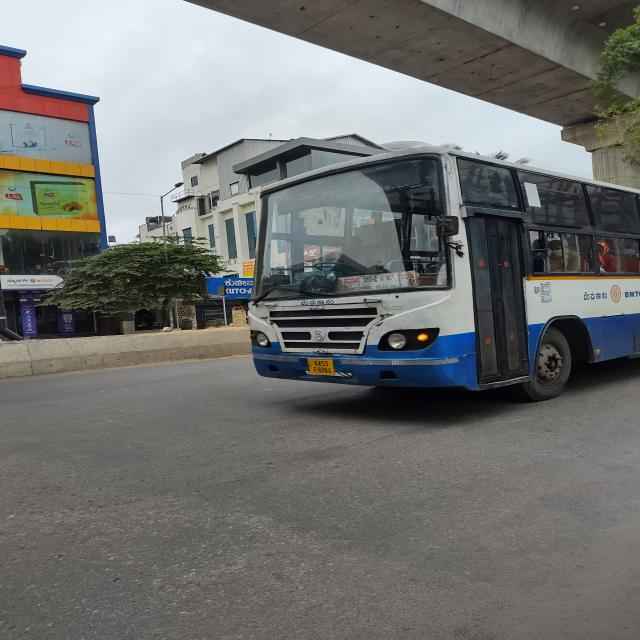bus: (236, 148, 640, 418)
display: (277, 166, 417, 212)
dnumber: (281, 186, 317, 205)
